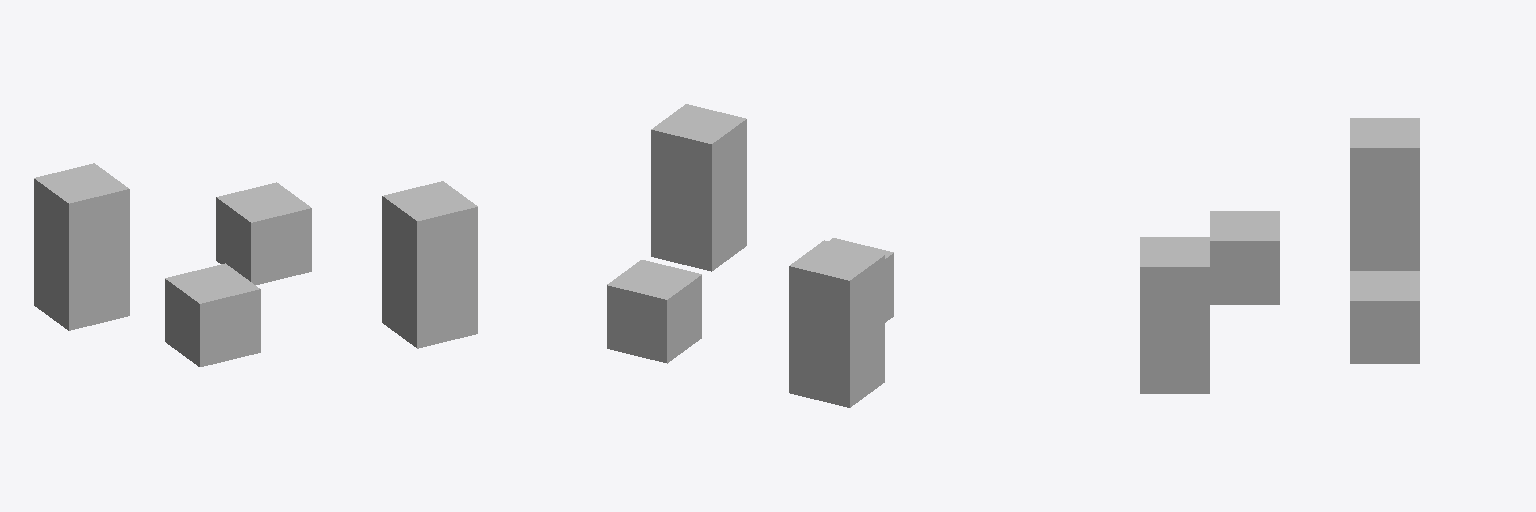
Rendered from Grama 2.obj.
3 views of the same model, side by side, from view 1: azimuth 30°, elevation 25°; view 2: azimuth 150°, elevation 25°; view 3: azimuth 270°, elevation 25° (orthographic).
Visible parts, largest first — view 1: object 1; view 2: object 1; view 3: object 1.
Part boxes in pixels (bbox=[...]): object 1: bbox=[34, 163, 477, 366]; object 1: bbox=[607, 104, 893, 407]; object 1: bbox=[1140, 118, 1419, 393].
Size of the model in its own units: 0.5 by 0.2 by 0.4.